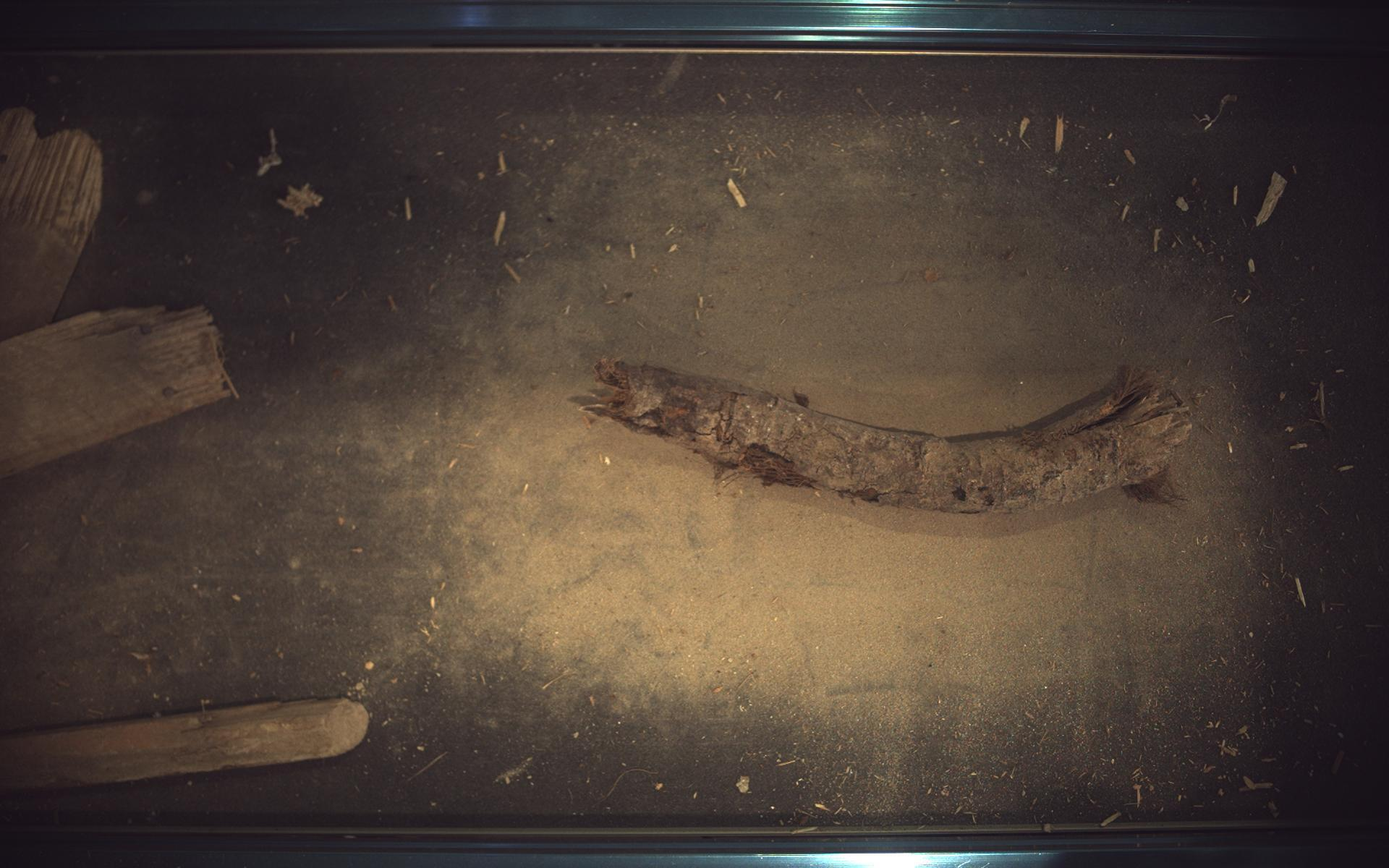wood: (585, 359, 1194, 514)
